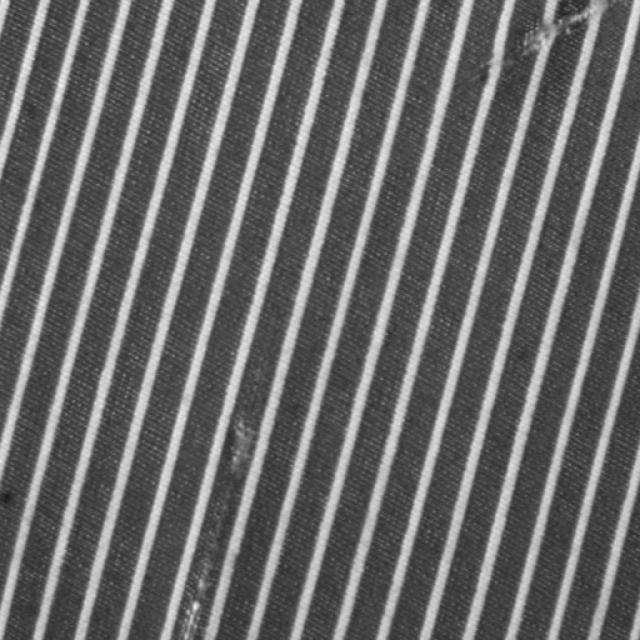Thread-Defect: (172, 388, 261, 639), (451, 0, 630, 95)
